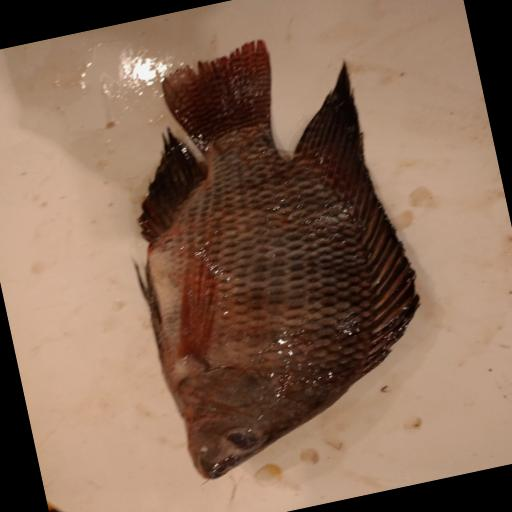Tilapia: (93, 17, 448, 487)
